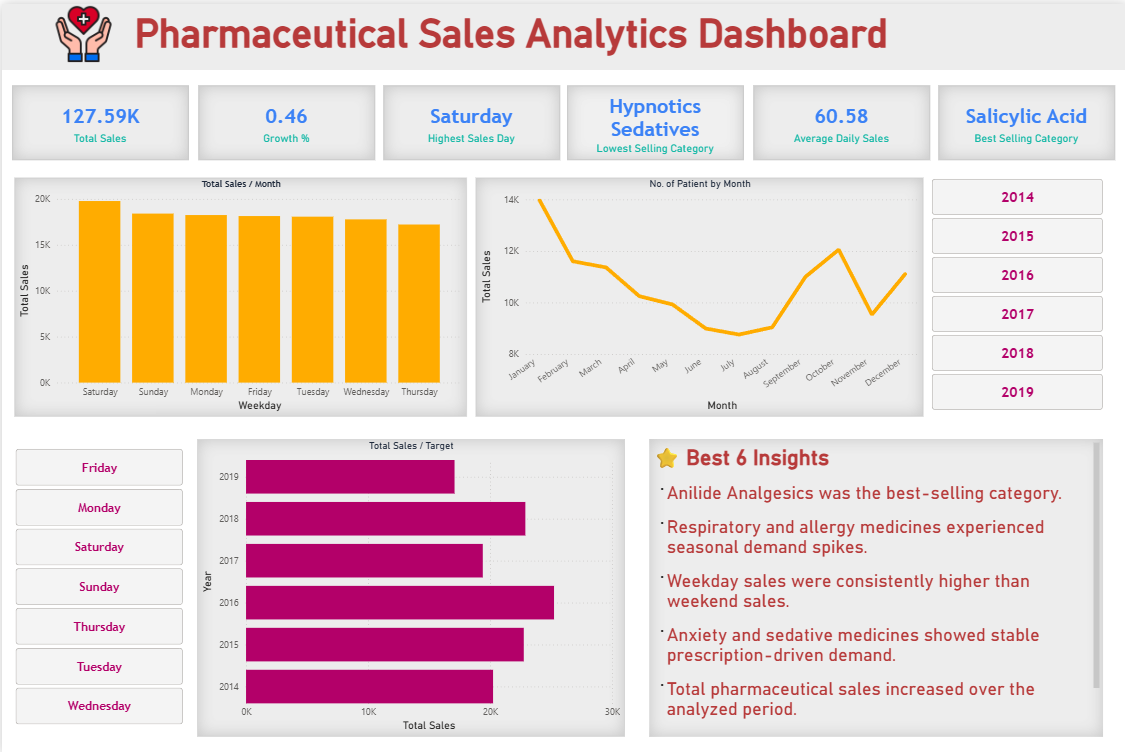

Layout of this report page (visuals, bound fields, positions):
{"tool":"powerbi","page":{"name":"Page 1","canvas":[1280,720],"ordinal":0},"visuals":[{"type":"kpi","title":"Total Sales / Month","fields":{"TrendLine":["cleaned_data.Month"],"Indicator":["cleaned_data.Total Sales"],"Goal":["cleaned_data.Target"]},"box":[12.5,205,460,261.2],"z":0},{"type":"card","fields":{"Values":["Sum(cleaned_data.Anilide_Analgesics_Sales)"]},"box":[762.5,205,228.8,115],"z":1000},{"type":"card","fields":{"Values":["Sum(cleaned_data.AntiInflammatory_Derivatives_Sales)"]},"box":[1013.8,205,228.8,115],"z":2000},{"type":"card","fields":{"Values":["Sum(cleaned_data.Antihistamines_Sales)"]},"box":[1013.8,58.8,228.8,115],"z":3000},{"type":"card","fields":{"Values":["Sum(cleaned_data.AntiAsthma_COPD_Sales)"]},"box":[762.5,58.8,228.8,115],"z":4000},{"type":"advancedSlicerVisual","fields":{"Values":["cleaned_data.Weekday"]},"box":[346.2,0,922.5,52.5],"z":5000},{"type":"card","fields":{"Values":["Sum(cleaned_data.PropionicAcid_Derivatives_Sales)"]},"box":[511.2,58.8,228.8,115],"z":6000},{"type":"card","fields":{"Values":["Sum(cleaned_data.Hypnotics_Sedatives_Sales)"]},"box":[262.5,58.8,228.8,115],"z":7000},{"type":"card","fields":{"Values":["Sum(cleaned_data.Anxiolytics_Sales)"]},"box":[12.5,58.8,228.8,115],"z":8000},{"type":"card","fields":{"Values":["Sum(cleaned_data.SalicylicAcid_Analgesics_Sales)"]},"box":[511.2,205,228.8,115],"z":9000},{"type":"lineChart","title":"No. of Patient by Month","fields":{"Y":["CountNonNull(cleaned_data.Column1)"],"Category":["cleaned_data.Date.Variation.Date Hierarchy.Month"]},"box":[511.2,343.8,732.5,343.8],"z":10000},{"type":"gauge","title":"Total Sales / Target","fields":{"Y":["cleaned_data.Total Sales"],"MaxValue":["cleaned_data.Target"]},"box":[12.5,477.5,460,210],"z":11000},{"type":"textbox","box":[12.5,3.8,290,45],"z":11001}]}

Visuals, with their boxes on the page's 1280x720 design canvas (x1, y1, x2, y2). These are canvas units, not pixel positions in the 1125x752 screenshot, which may show the page scaled, cropped or inside an application window:
"Total Sales / Month" kpi: bbox=(12, 205, 472, 466)
card - Sum(cleaned_data.Anilide_Analgesics_Sales): bbox=(762, 205, 991, 320)
card - Sum(cleaned_data.AntiInflammatory_Derivatives_Sales): bbox=(1014, 205, 1243, 320)
card - Sum(cleaned_data.Antihistamines_Sales): bbox=(1014, 59, 1243, 174)
card - Sum(cleaned_data.AntiAsthma_COPD_Sales): bbox=(762, 59, 991, 174)
advancedSlicerVisual - cleaned_data.Weekday: bbox=(346, 0, 1269, 52)
card - Sum(cleaned_data.PropionicAcid_Derivatives_Sales): bbox=(511, 59, 740, 174)
card - Sum(cleaned_data.Hypnotics_Sedatives_Sales): bbox=(262, 59, 491, 174)
card - Sum(cleaned_data.Anxiolytics_Sales): bbox=(12, 59, 241, 174)
card - Sum(cleaned_data.SalicylicAcid_Analgesics_Sales): bbox=(511, 205, 740, 320)
"No. of Patient by Month" lineChart: bbox=(511, 344, 1244, 688)
"Total Sales / Target" gauge: bbox=(12, 478, 472, 688)
textbox: bbox=(12, 4, 302, 49)
